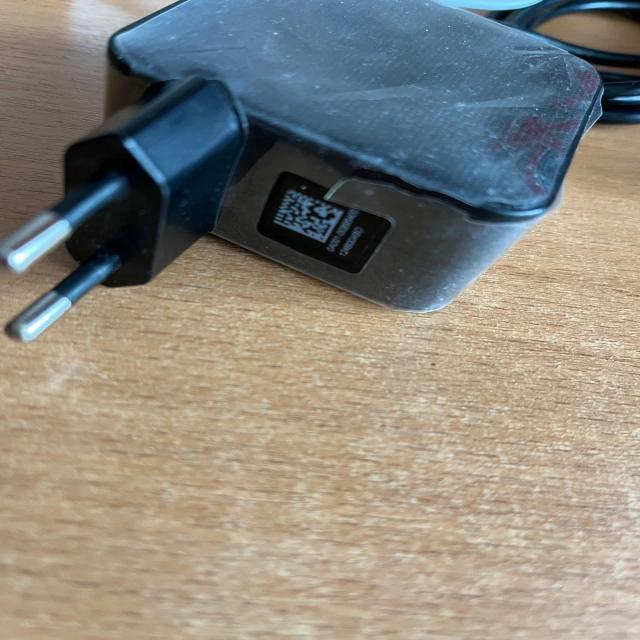datamatrix: (271, 188, 347, 244)
